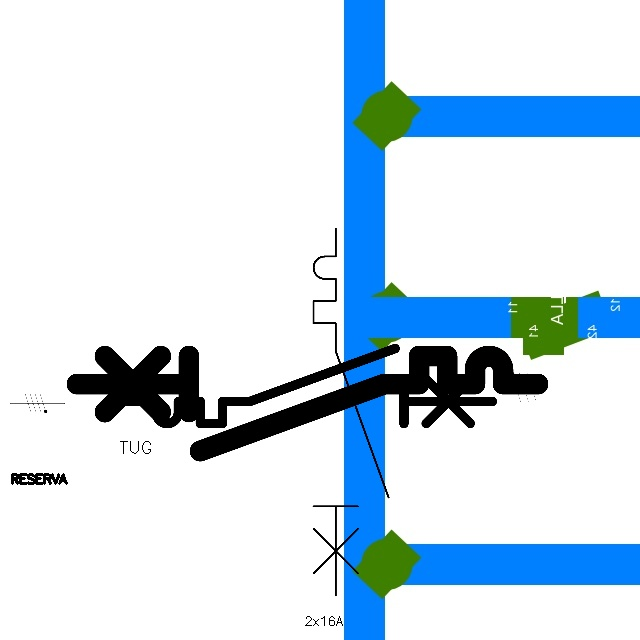interruptor_termomagnetico: (64, 344, 550, 463), (304, 219, 398, 605), (119, 339, 502, 433)
